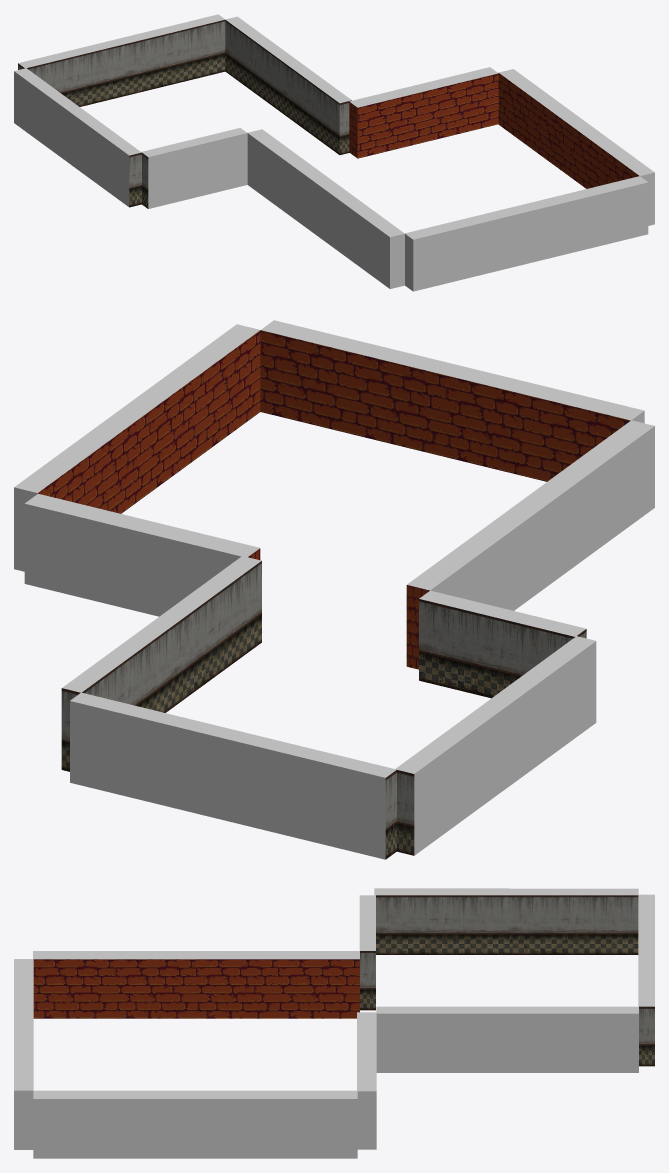
File: OuterLayerWall.fbx
3 renders of one model, top to bottom at view 1: azimuth 30°, elevation 25°; view 2: azimuth 150°, elevation 25°; view 3: azimuth 270°, elevation 25°, orthographic. The views are drawn at different scales.
Visible parts, largest first — view 1: Cube.002; view 2: Cube.002; view 3: Cube.002.
Part boxes in pixels (bbox=[...]): Cube.002: bbox=[14, 14, 654, 291]; Cube.002: bbox=[14, 320, 654, 859]; Cube.002: bbox=[14, 888, 654, 1158].
Bounding box in the file's own units: 6076 × 801 × 7812.
